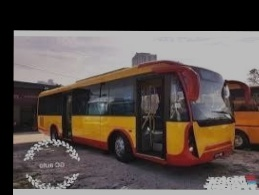bus: (32, 61, 243, 169)
